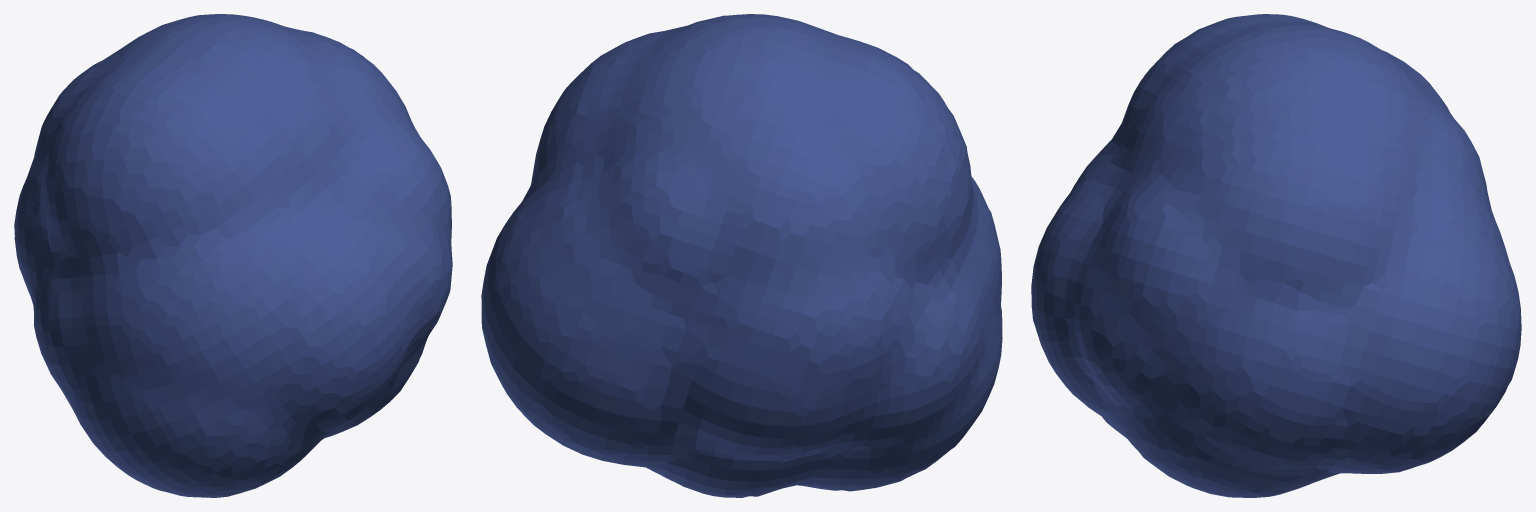
The model's file is water.glb.
3 views of the same model, side by side, from view 1: azimuth 30°, elevation 25°; view 2: azimuth 150°, elevation 25°; view 3: azimuth 270°, elevation 25° (orthographic). The views are drawn at different scales.
Parts seen in each view (by area): view 1: Sphere; view 2: Sphere; view 3: Sphere.
Part boxes in pixels (bbox=[...]): Sphere: bbox=[14, 14, 452, 497]; Sphere: bbox=[481, 14, 1002, 497]; Sphere: bbox=[1031, 14, 1521, 497].
Bounding box in the file's own units: 1.08 × 1.12 × 1.13.
